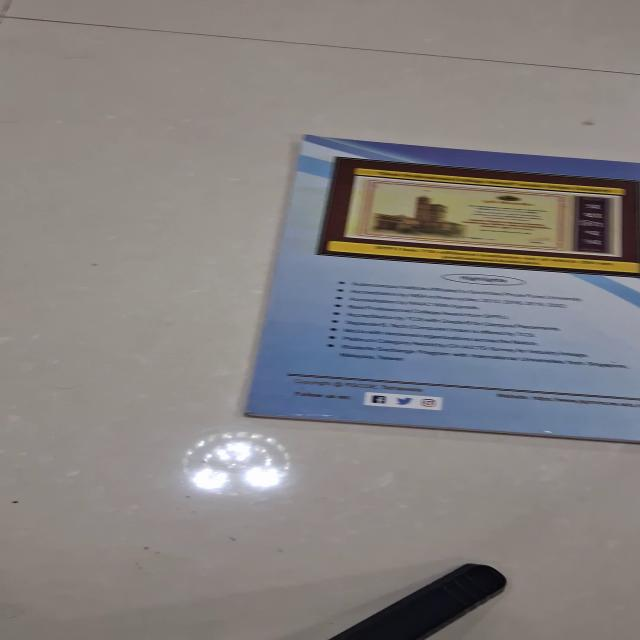paper: (242, 134, 639, 444)
